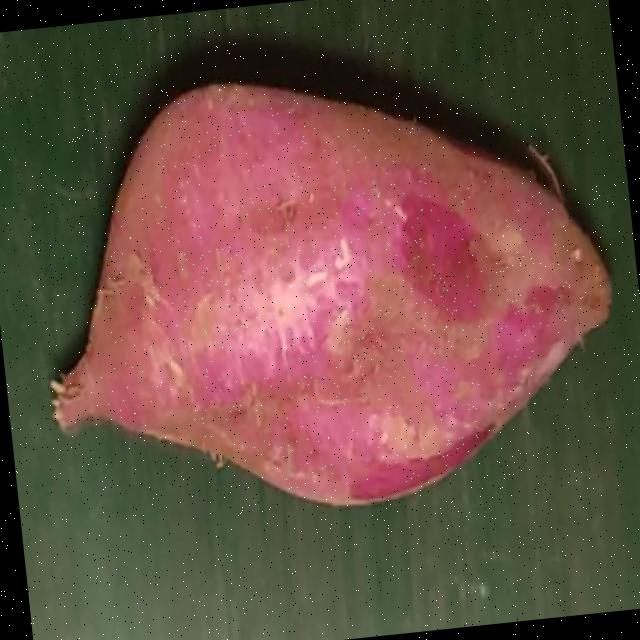Sweet Potato: (46, 82, 611, 506)
